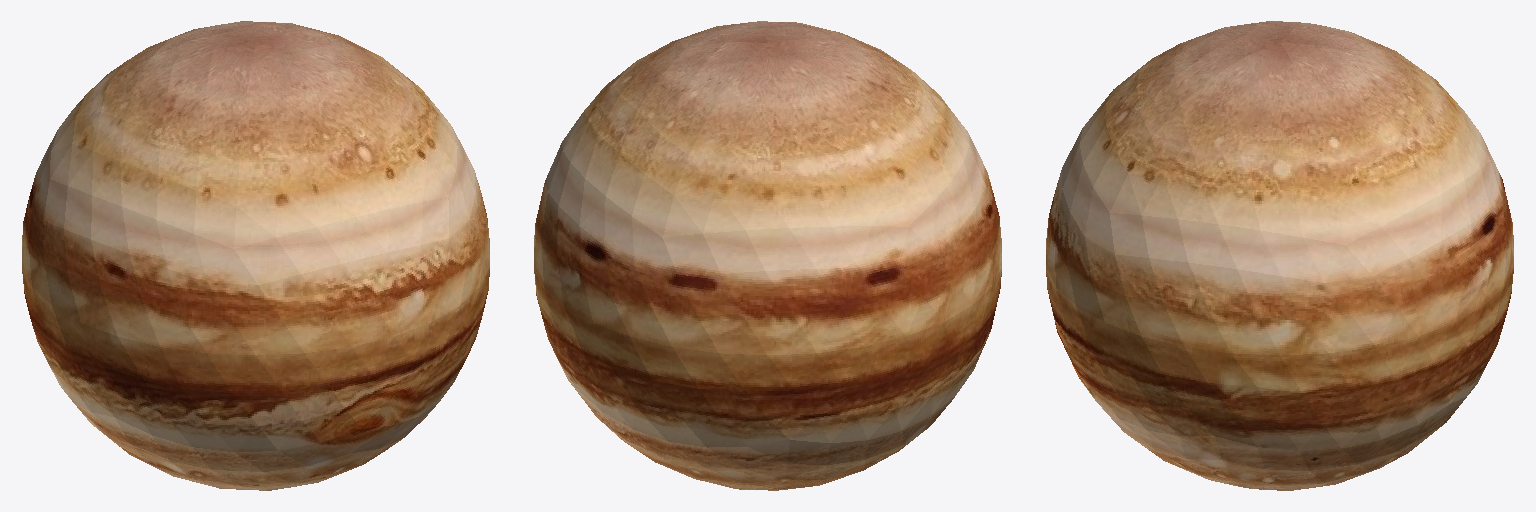
3 views of the same model, side by side, from view 1: azimuth 30°, elevation 25°; view 2: azimuth 150°, elevation 25°; view 3: azimuth 270°, elevation 25° (orthographic).
Size of the model in its own units: 2 by 2 by 1.99.
1 materials, 1 textured.